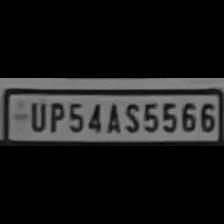4: (85, 99, 103, 133)
5: (64, 99, 84, 133), (159, 99, 177, 133), (141, 99, 158, 133)
6: (196, 100, 218, 132), (178, 100, 196, 132)
A: (101, 99, 119, 133)
P: (46, 99, 64, 133)
S: (120, 99, 140, 133)
U: (24, 100, 46, 132)
